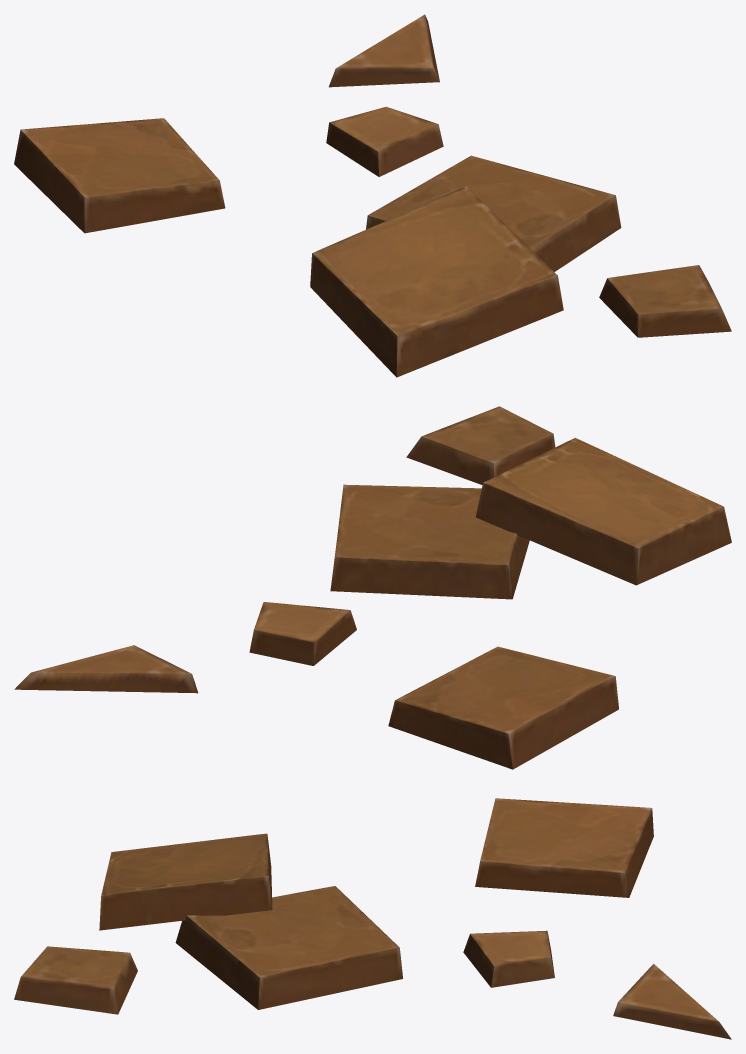
The model's file is shakian_rubble_bricktile01_03.FBX.
3 views of the same model, one above another, from view 1: azimuth 30°, elevation 25°; view 2: azimuth 150°, elevation 25°; view 3: azimuth 270°, elevation 25° (orthographic). The views are drawn at different scales.
Parts seen in each view (by area): view 1: shakian_rubble_bricktile01_03; view 2: shakian_rubble_bricktile01_03; view 3: shakian_rubble_bricktile01_03.
Boxes of the visible parts, x1=… form: shakian_rubble_bricktile01_03: x1=14, y1=14, x2=731, y2=377; shakian_rubble_bricktile01_03: x1=14, y1=406, x2=731, y2=769; shakian_rubble_bricktile01_03: x1=14, y1=798, x2=731, y2=1039.
Size of the model in its own units: 1.94 by 0.3385 by 2.78.
